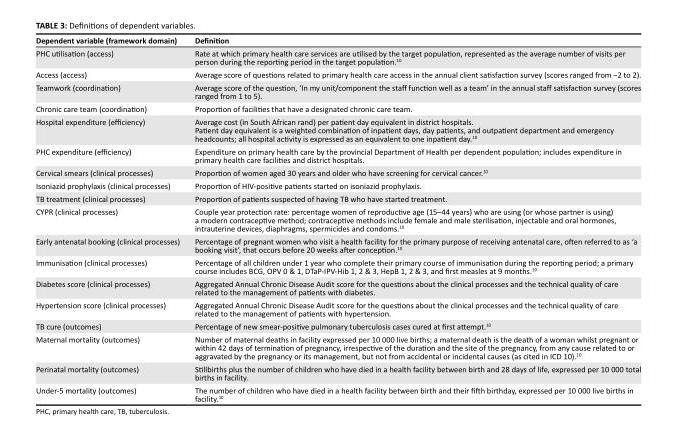table: (34, 34, 640, 402)
table column: (186, 34, 640, 402), (34, 34, 186, 402)
table column header: (34, 34, 640, 47)
table row: (34, 115, 640, 145), (34, 332, 640, 362), (34, 205, 640, 234), (34, 234, 640, 256), (34, 47, 640, 68), (34, 81, 640, 102), (34, 145, 640, 166), (34, 256, 640, 277), (34, 277, 640, 298), (34, 298, 640, 319), (34, 362, 640, 383), (34, 383, 640, 402), (34, 34, 640, 47), (34, 68, 640, 81), (34, 102, 640, 115), (34, 166, 640, 179), (34, 179, 640, 192), (34, 192, 640, 205), (34, 319, 640, 332)
